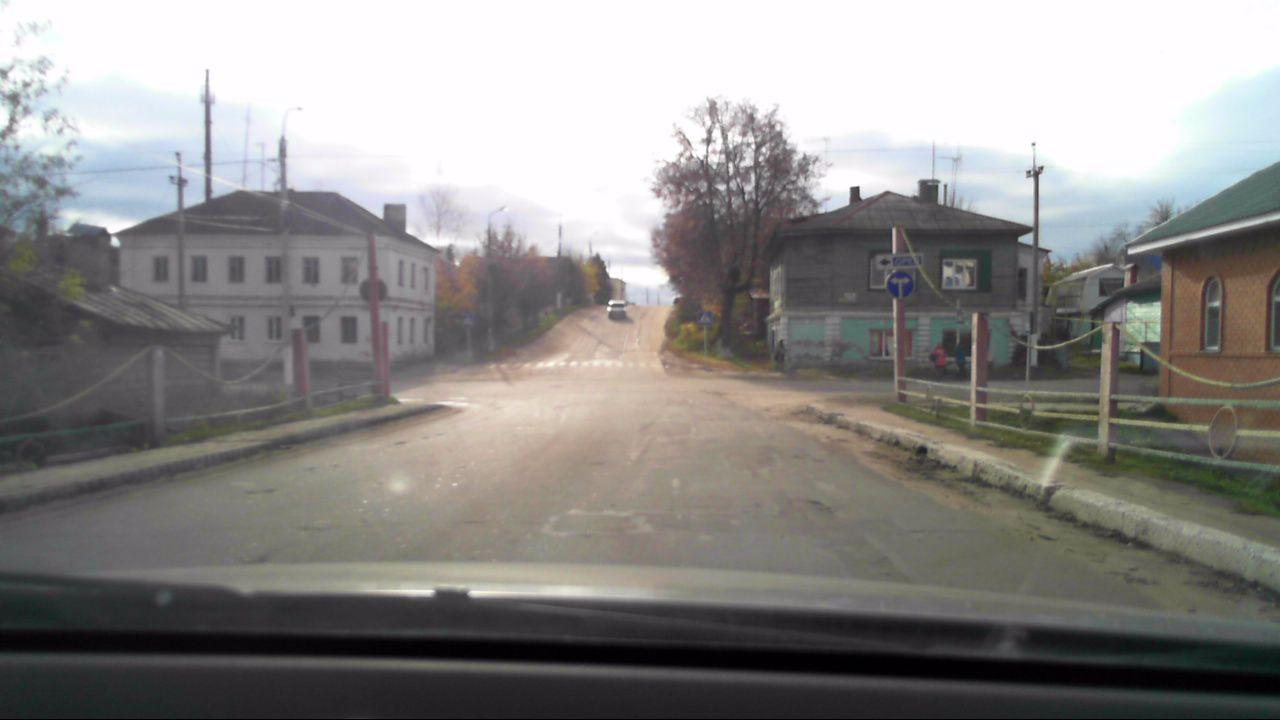4_1_6: (884, 272, 915, 299)
